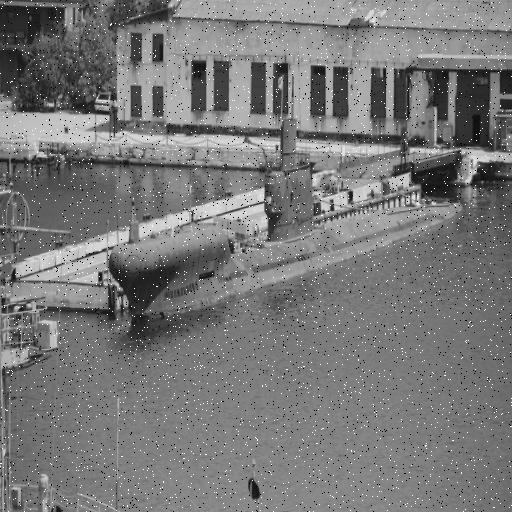submarine: (110, 80, 463, 329)
